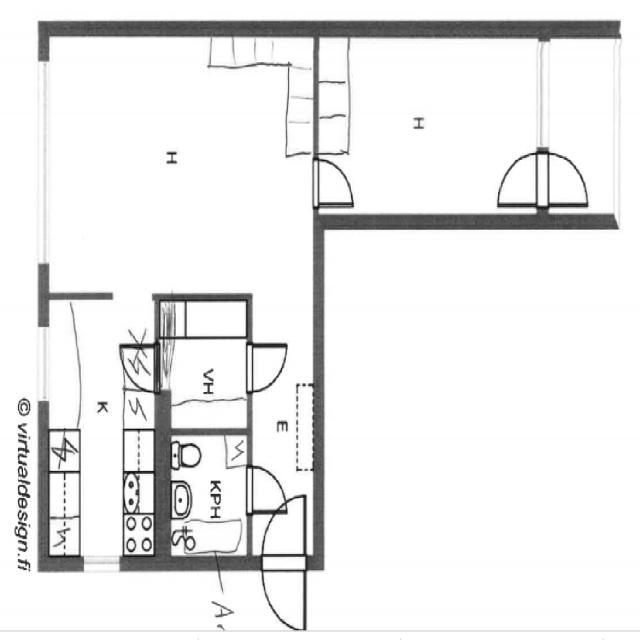door: (254, 500, 311, 633), (534, 145, 595, 208), (492, 145, 546, 205), (240, 335, 290, 399), (307, 148, 358, 209), (240, 461, 290, 516)
window: (36, 54, 51, 266), (530, 33, 555, 156), (32, 314, 55, 416), (77, 550, 125, 578)
zone: (44, 31, 310, 303), (316, 35, 544, 221), (41, 293, 162, 566), (156, 295, 252, 431), (164, 429, 252, 562)
